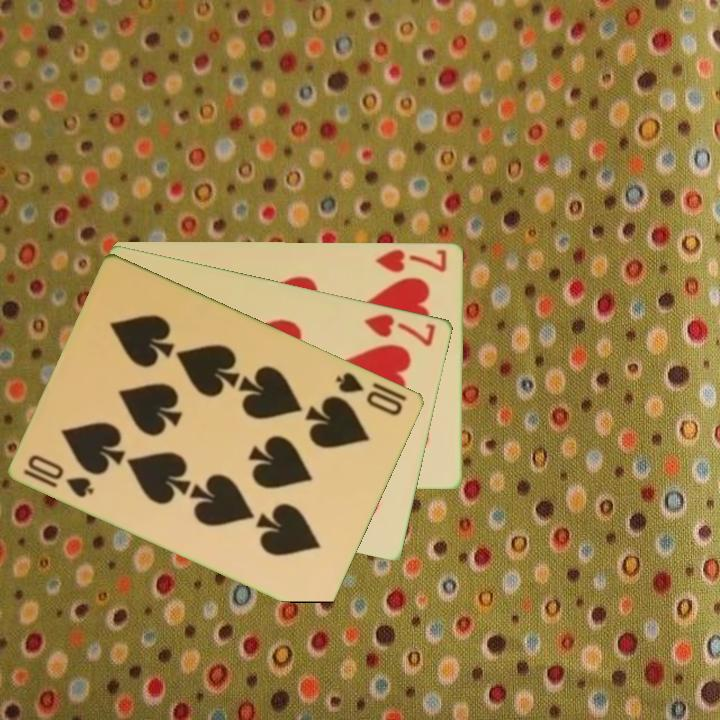10s: (20, 451, 98, 501), (332, 368, 406, 419)
7h: (360, 310, 439, 349), (373, 245, 450, 275)
